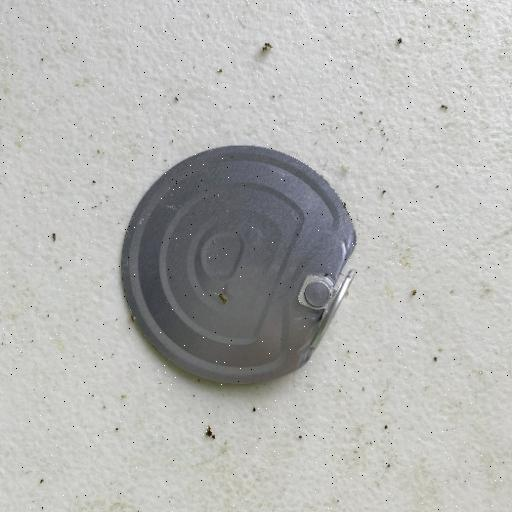Metal: (117, 142, 359, 388)
